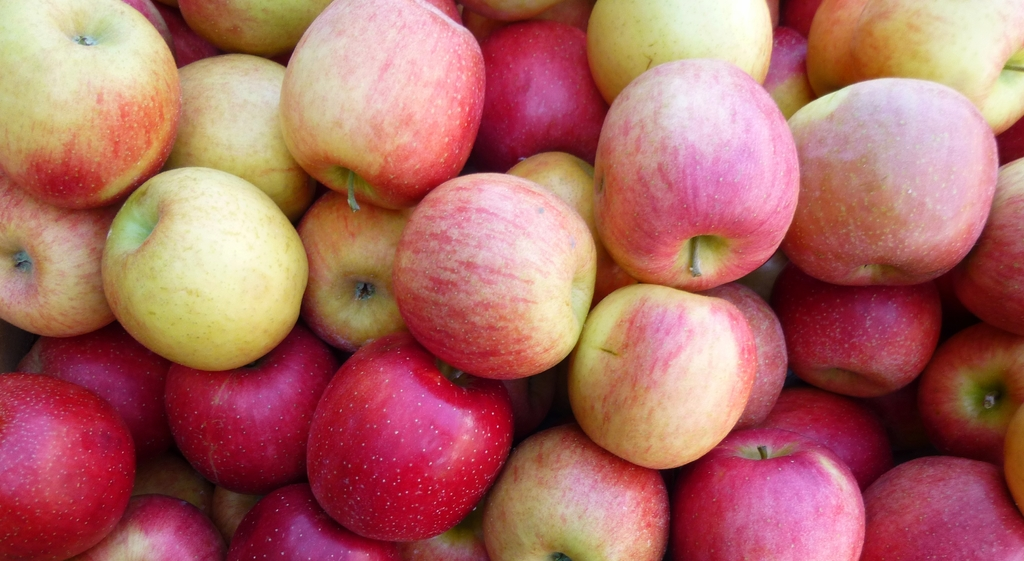Apple: (0, 0, 1023, 560), (1, 5, 188, 213)
